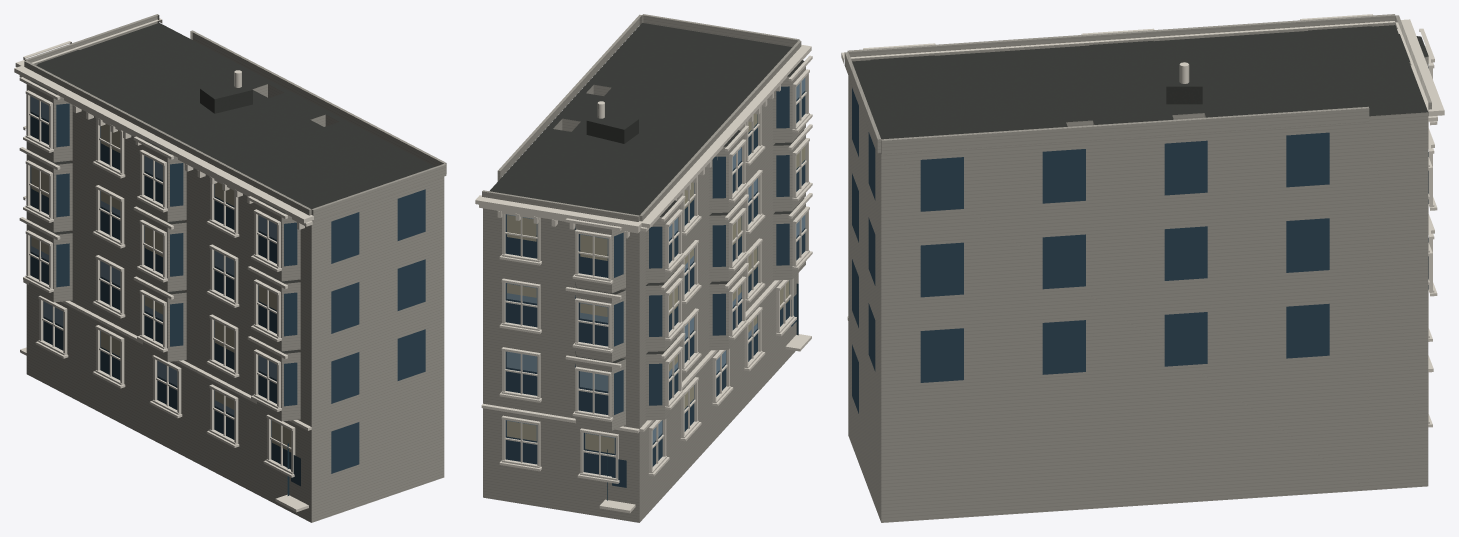
3 renders of one model, left to right at view 1: azimuth 30°, elevation 25°; view 2: azimuth 150°, elevation 25°; view 3: azimuth 270°, elevation 25°, orthographic. The views are drawn at different scales.
Parts seen in each view (by area): view 1: Footprint 0 / surface 2, Footprint 0 / surface 1, Cornices and window frames, Inset glazing, Facade bay volumes, Interior blind variation, Sky reflection panels, Roof, Inferred rooftop service enclosure / surface 5, Inferred rooftop service enclosure / surface 3; view 2: Footprint 0 / surface 2, Cornices and window frames, Footprint 0 / surface 1, Facade bay volumes, Inset glazing, Interior blind variation, Sky reflection panels, Roof, Inferred rooftop service enclosure / surface 6, Inferred rooftop service enclosure / surface 3; view 3: Footprint 0 / surface 2, Footprint 0 / surface 1, Inset glazing, Facade bay volumes, Cornices and window frames, Inferred rooftop service enclosure / surface 3, Inferred rooftop service enclosure / surface 1.
Part boxes in pixels (x1,y1,x2,y2): Footprint 0 / surface 2: (26, 84, 444, 522); Footprint 0 / surface 1: (36, 23, 434, 209); Cornices and window frames: (14, 18, 313, 512); Inset glazing: (30, 96, 425, 486); Facade bay volumes: (24, 14, 446, 421); Interior blind variation: (31, 124, 291, 452); Sky reflection panels: (31, 96, 276, 415); Roof: (31, 50, 299, 353); Inferred rooftop service enclosure / surface 5: (214, 90, 252, 113); Inferred rooftop service enclosure / surface 3: (200, 80, 252, 99); Footprint 0 / surface 2: (483, 84, 798, 522); Cornices and window frames: (475, 44, 812, 513); Footprint 0 / surface 1: (489, 23, 792, 215); Facade bay volumes: (482, 14, 805, 430); Inset glazing: (505, 86, 805, 487); Interior blind variation: (507, 113, 805, 453); Sky reflection panels: (506, 77, 805, 453); Roof: (575, 60, 804, 363); Inferred rooftop service enclosure / surface 6: (586, 121, 624, 143); Inferred rooftop service enclosure / surface 3: (587, 111, 638, 129); Footprint 0 / surface 2: (848, 76, 1428, 522); Footprint 0 / surface 1: (852, 25, 1427, 139); Inset glazing: (852, 67, 1428, 413); Facade bay volumes: (844, 14, 1431, 278); Cornices and window frames: (841, 14, 1444, 427); Inferred rooftop service enclosure / surface 3: (1166, 63, 1202, 86); Inferred rooftop service enclosure / surface 1: (1166, 86, 1202, 104).
Size of the model in its own units: 10.67 by 14.99 by 20.
